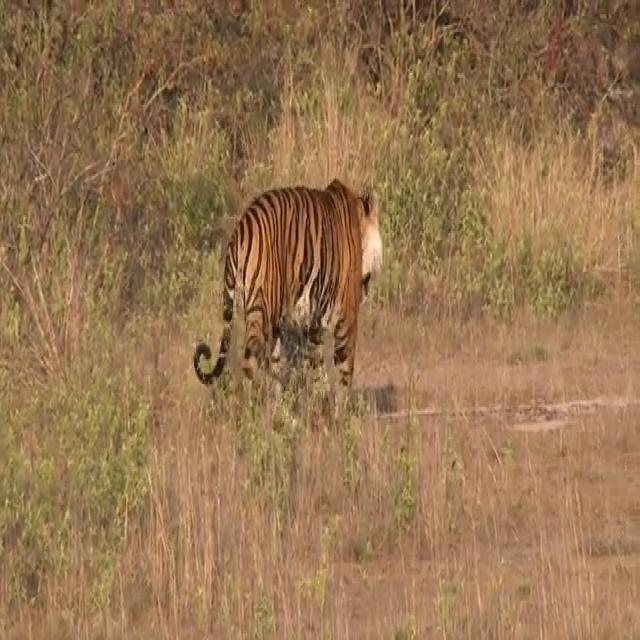tiger: (193, 178, 383, 389)
